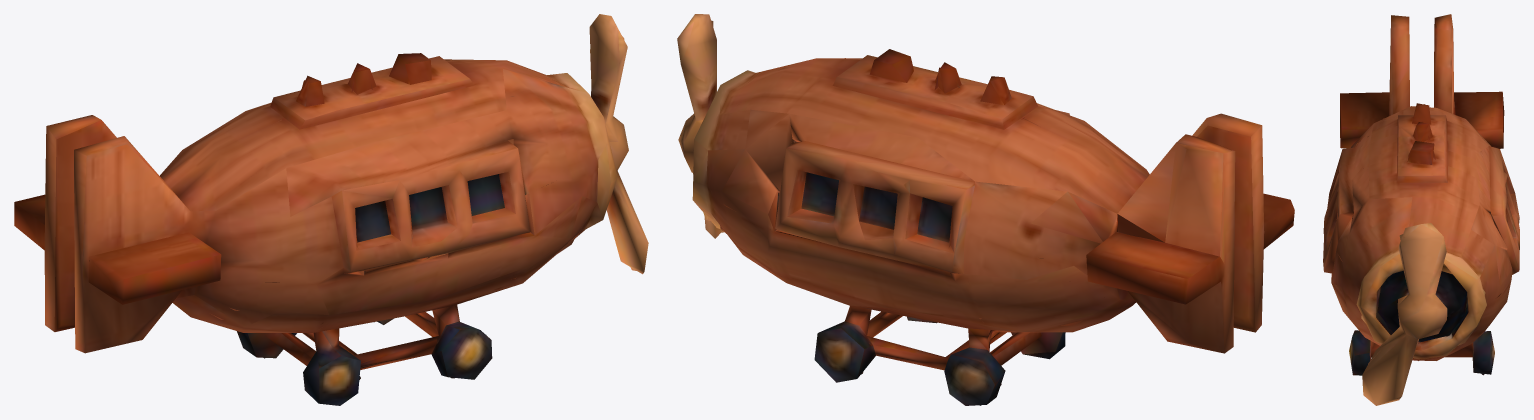
Rendered from lg-airship.glb.
3 renders of one model, left to right at view 1: azimuth 30°, elevation 25°; view 2: azimuth 150°, elevation 25°; view 3: azimuth 270°, elevation 25°, orthographic. The views are drawn at different scales.
Parts seen in each view (by area): view 1: geometry_0; view 2: geometry_0; view 3: geometry_0.
Boxes of the visible parts, x1,y1,x2,y2 form: geometry_0: [14, 14, 648, 405]; geometry_0: [677, 14, 1294, 405]; geometry_0: [1323, 14, 1519, 405].
Size of the model in its own units: 1 by 0.5095 by 0.3983.
Materials: 1 (1 with a texture image).
